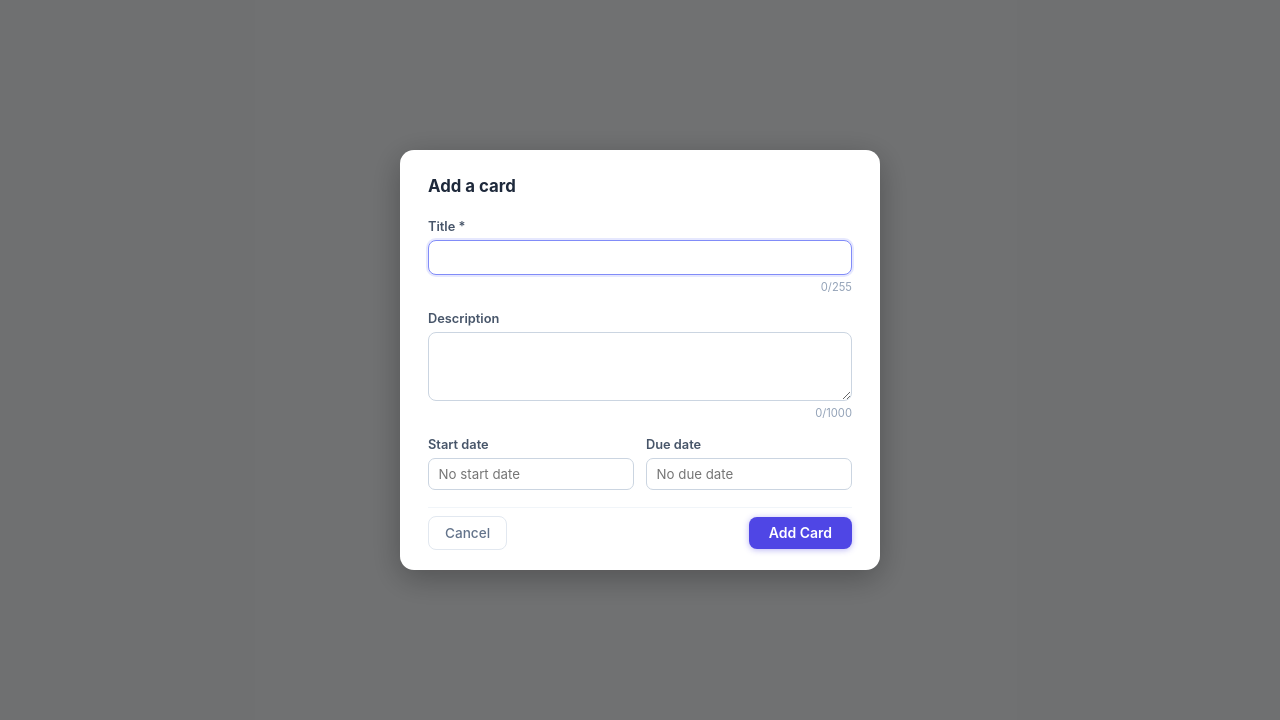
CardModal — title validation › shows character counter for title
Type "Hello" into the field named "card title" at (640, 258), box [428,240,852,275]
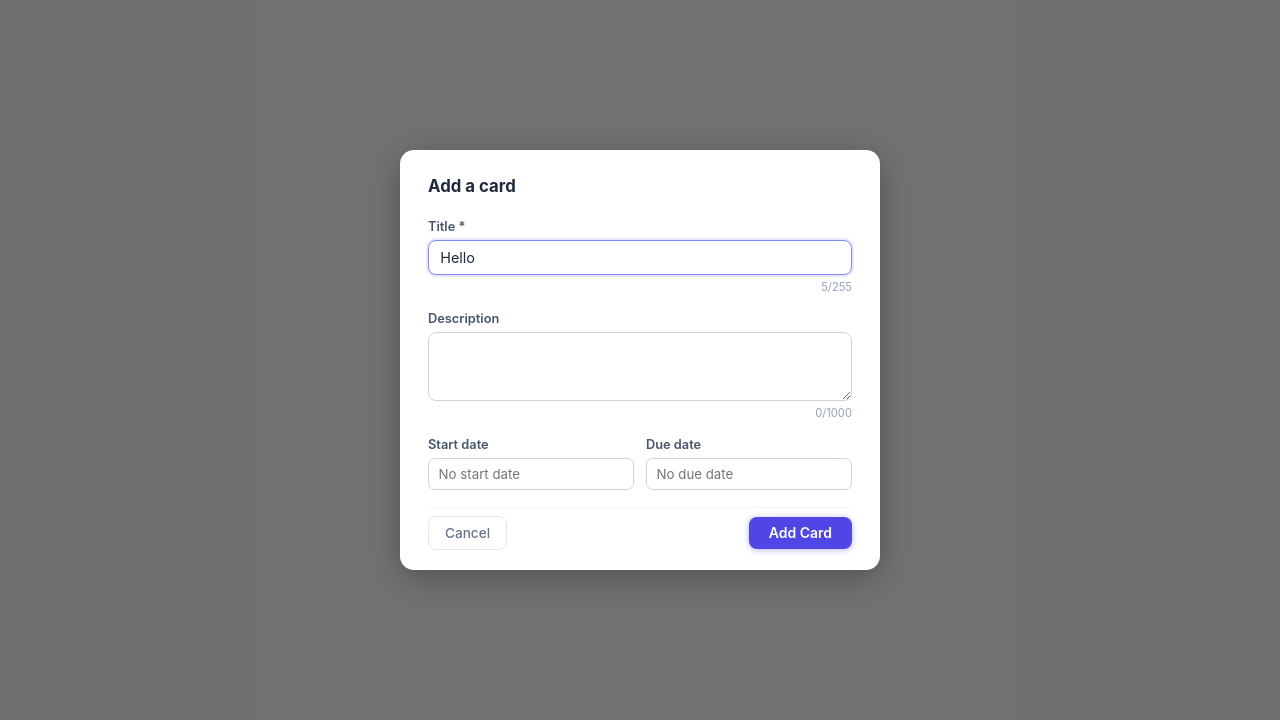
Check: the text "5/255" is shown, box [821,280,852,294]
